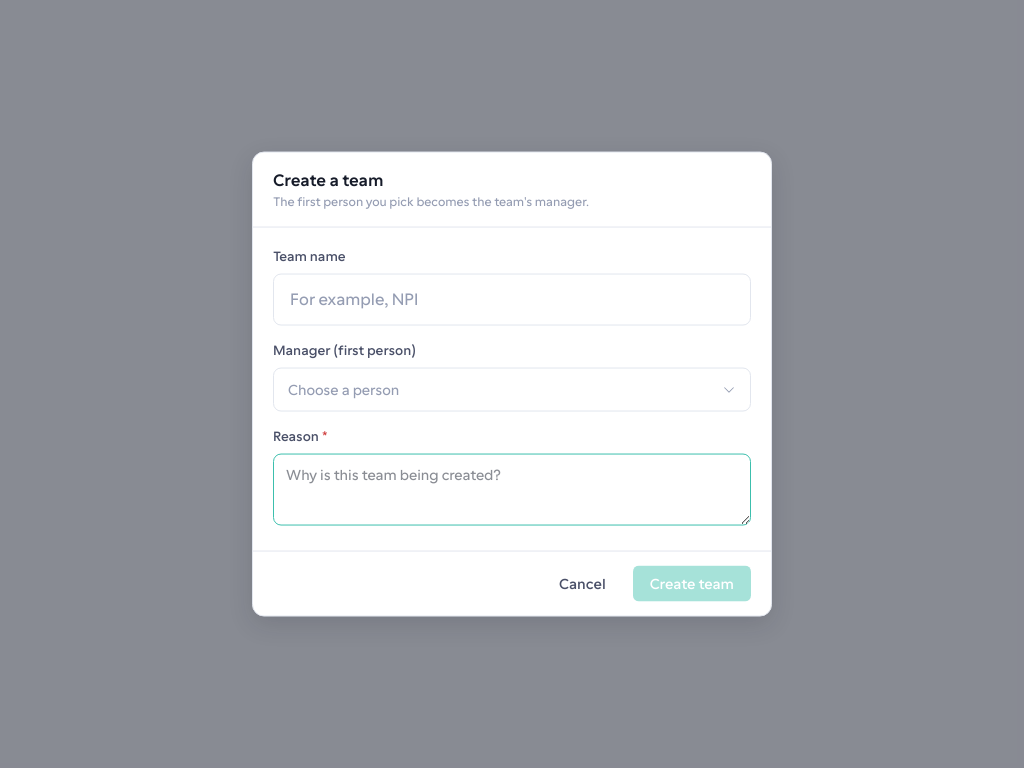
CreateTeamDialog › shows the server message (duplicate name)
Type "Beta" into the field labelled "Team name" at (512, 300), box [273,274,751,326]
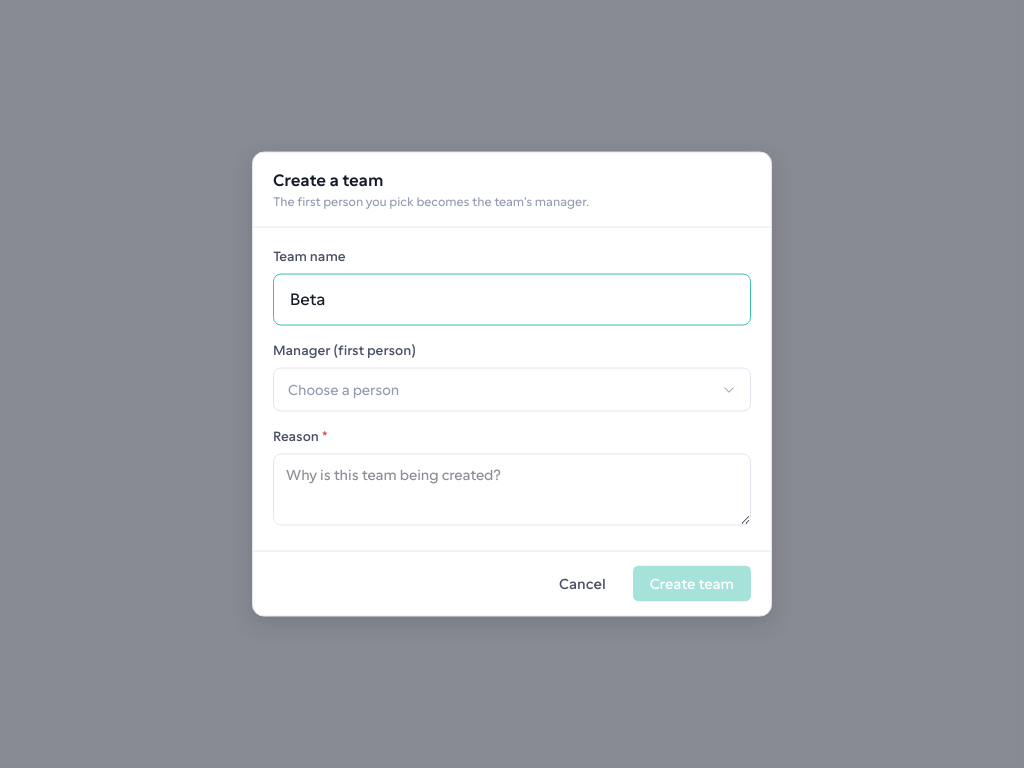
Click the dropdown named "Manager" at (344, 389), box [273,368,751,412]
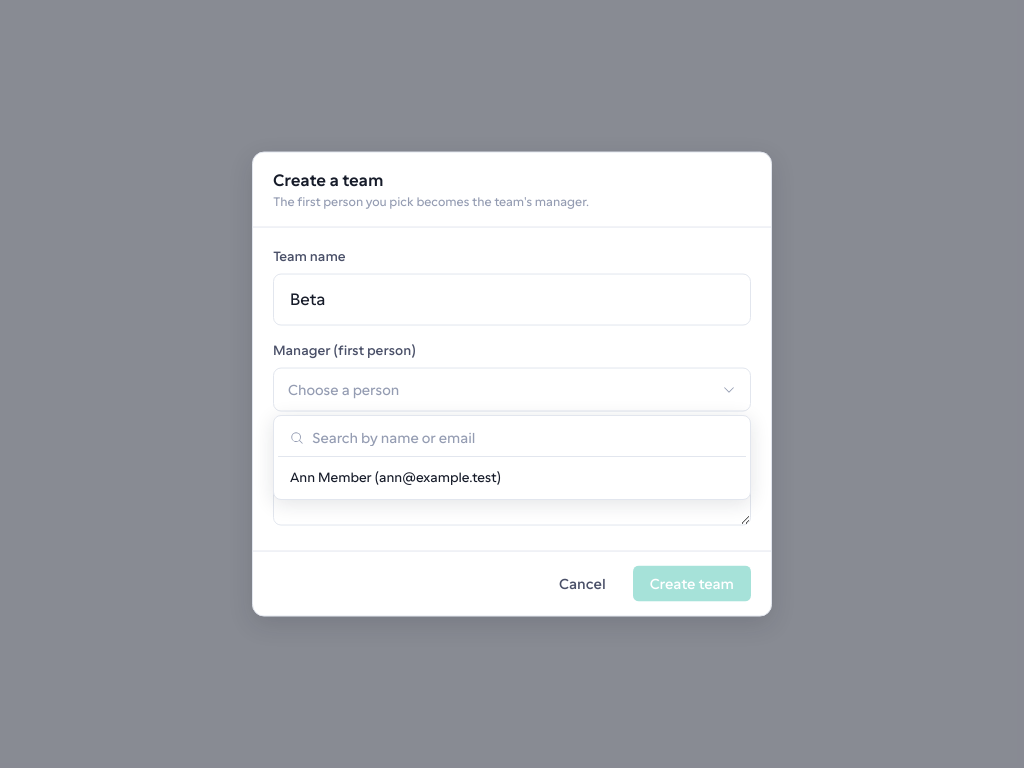
Click the option "Ann Member (ann@example.test)" at (396, 478), box [290,470,501,485]
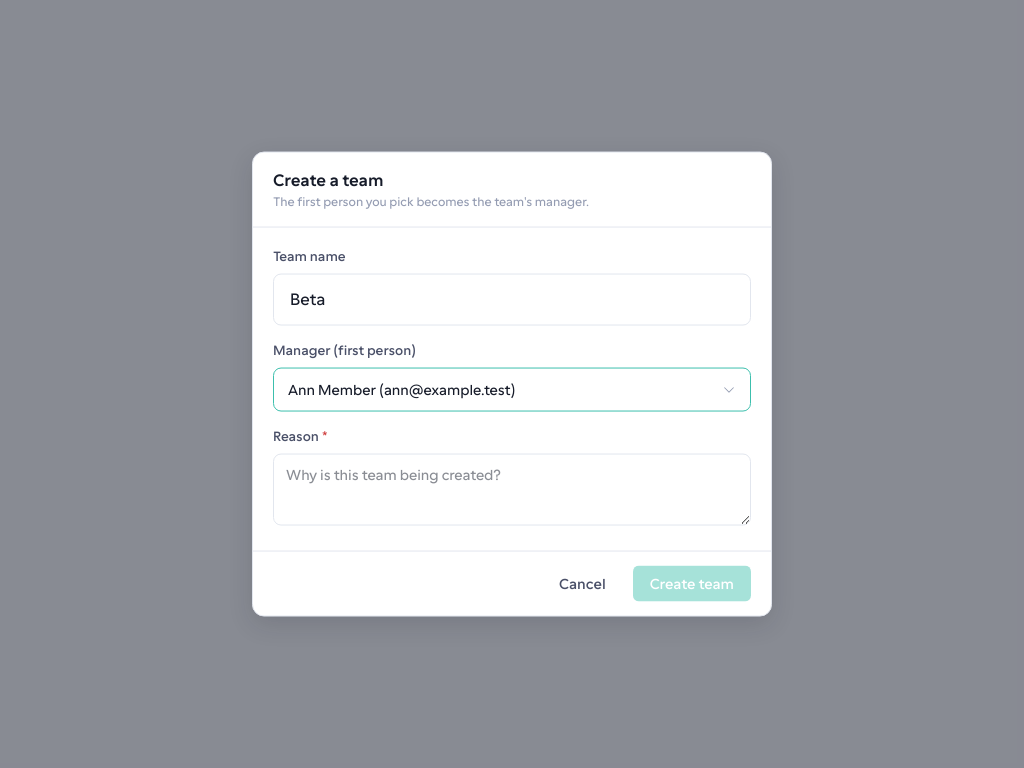
Type "because" into the text box labelled "Reason *" at (512, 490), box [273,454,751,526]
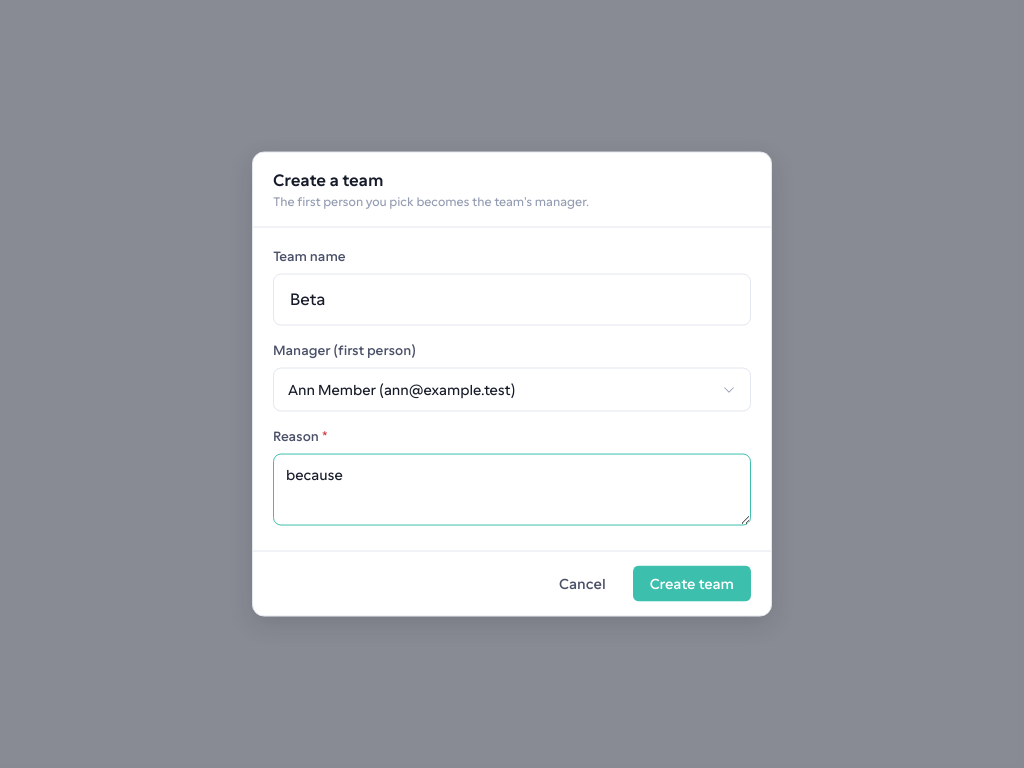
Click the button "Create team" at (692, 584), box [633,566,751,602]
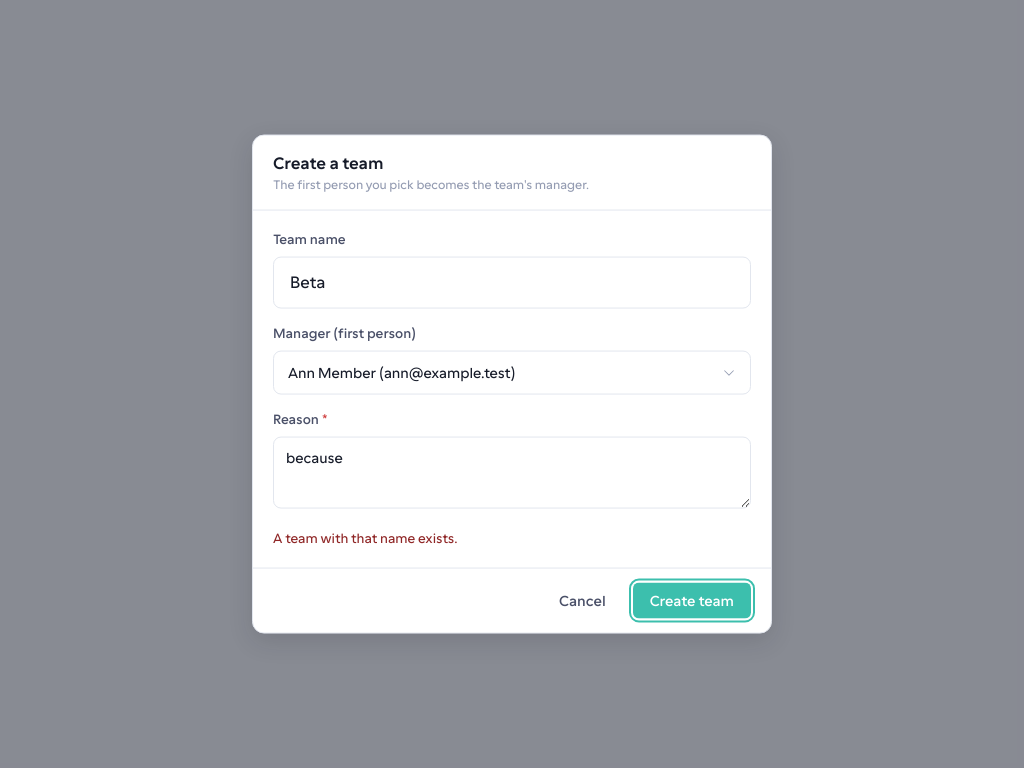
Result: the message reads "A team with that name exists." at [273,530,457,546]
